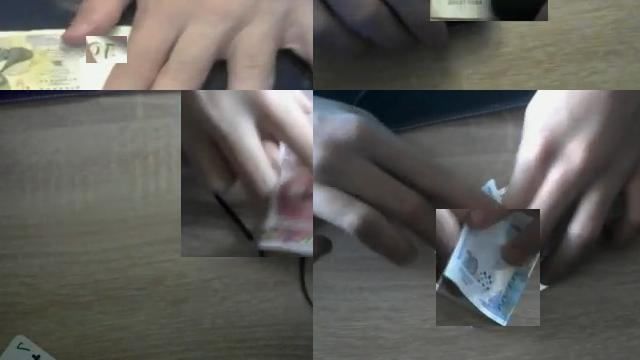10leva: (86, 37, 127, 63)
20leva: (436, 209, 540, 326)
5leva: (192, 90, 313, 256)
